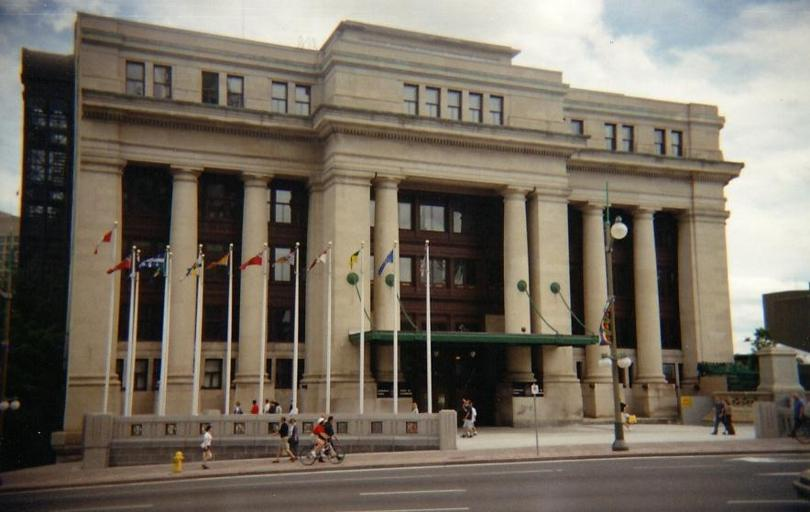non-vehicle: (298, 437, 345, 465), (794, 417, 810, 444)
